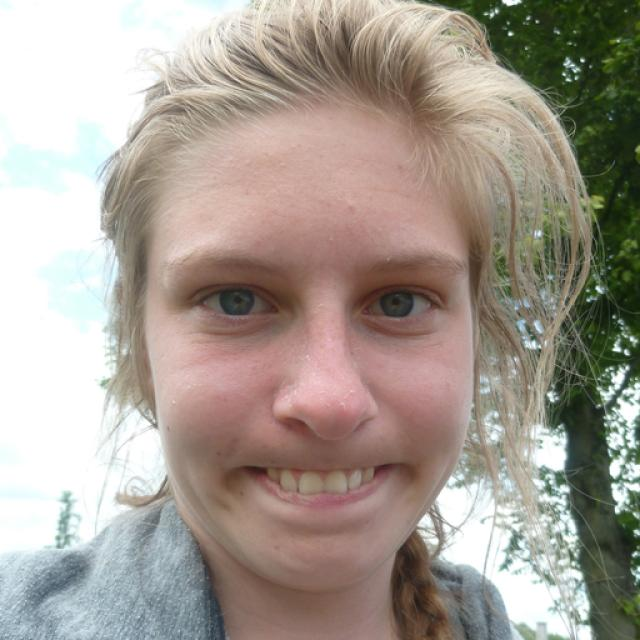Acne: (338, 198, 359, 212)
